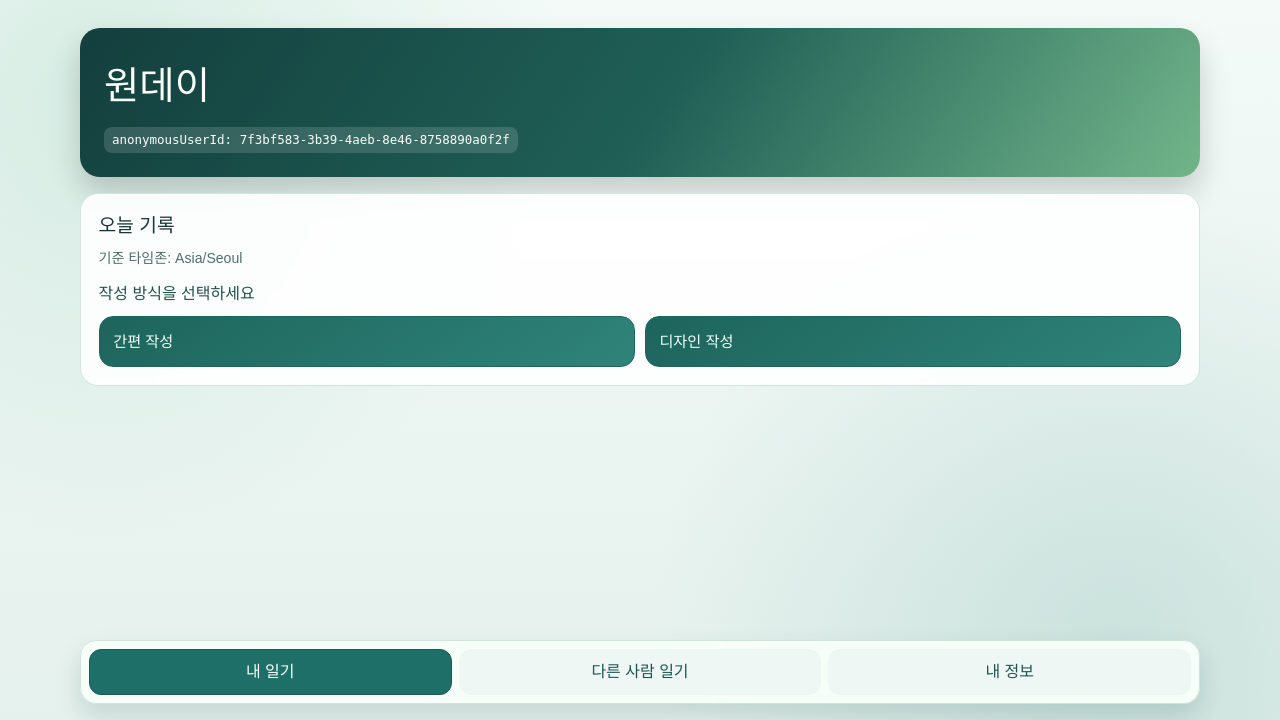
Scenario: App integration › keeps simple entry content out of the design editor
Click the button "간편 작성" at (143, 341), box x1=99 y1=316 x2=635 y2=367
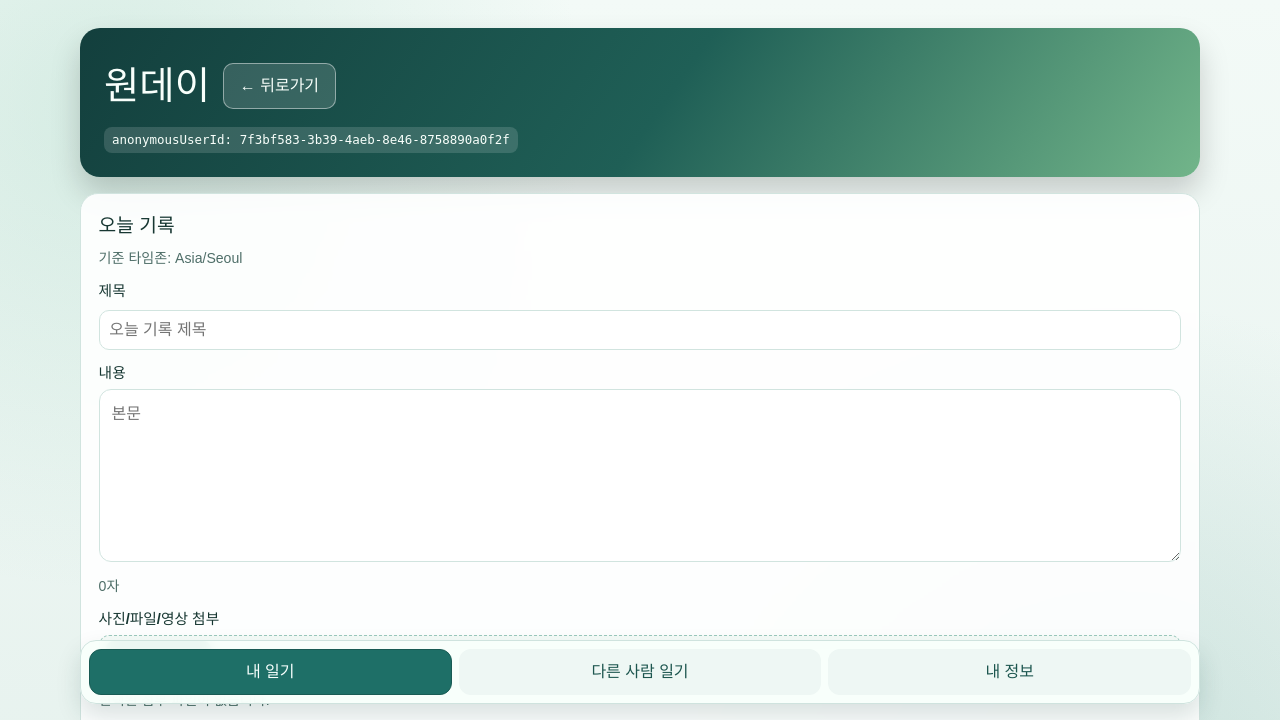
Type "간편 작성에서 입력한 본문은 디자인 편집기에 자동으로 들어가면 안 됩니다." into the text box labelled "내용" at (640, 475), box x1=99 y1=389 x2=1181 y2=562
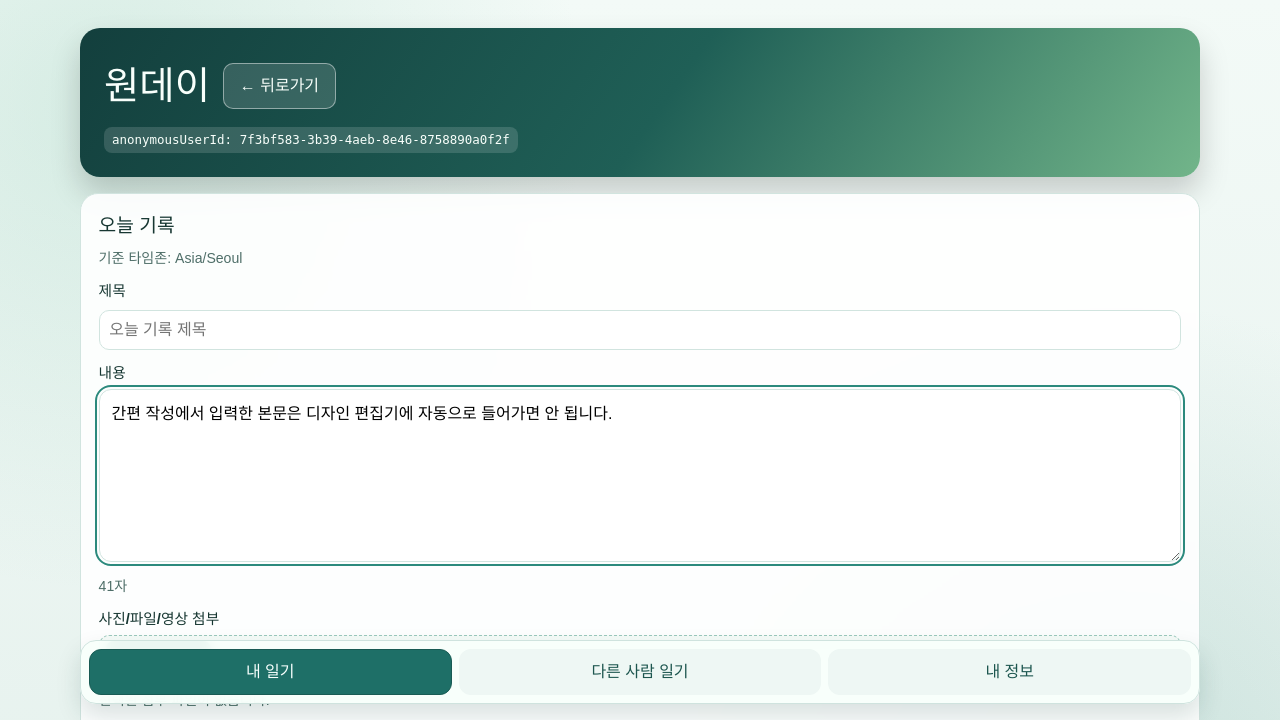
Click the button "← 뒤로가기" at (279, 86), box x1=223 y1=63 x2=336 y2=109
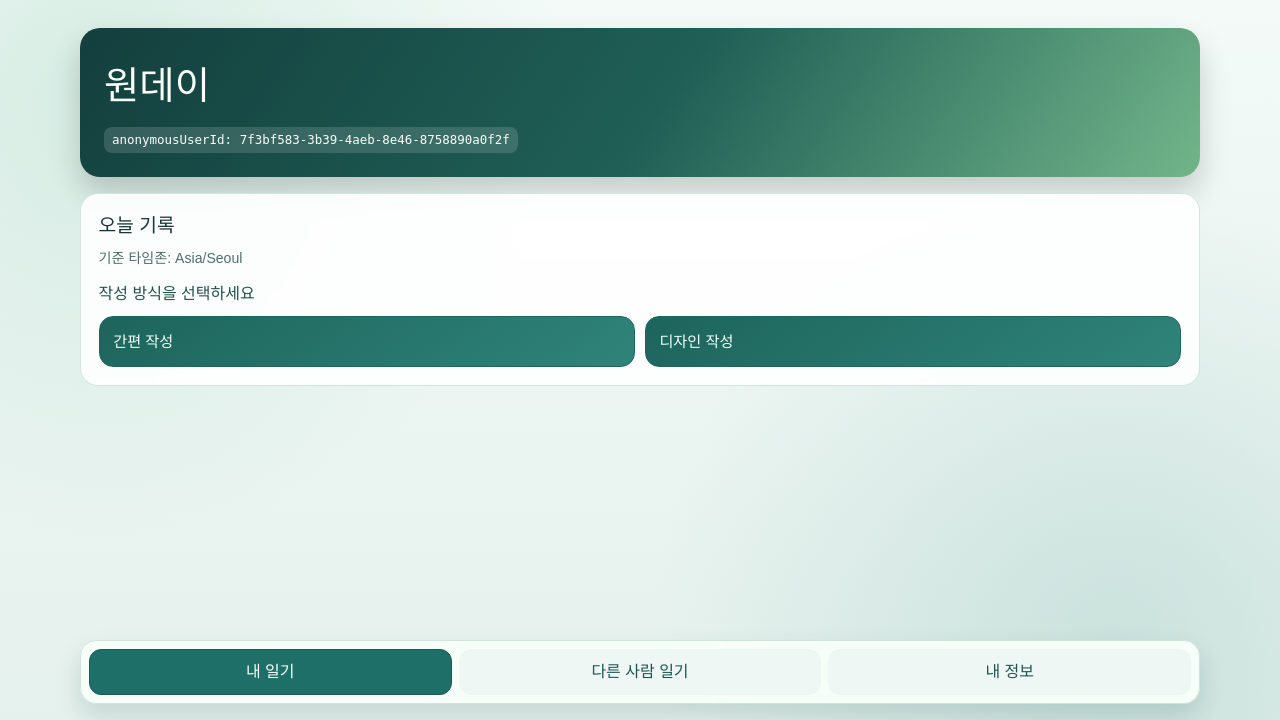
Click the button "디자인 작성" at (696, 341), box x1=645 y1=316 x2=1181 y2=367
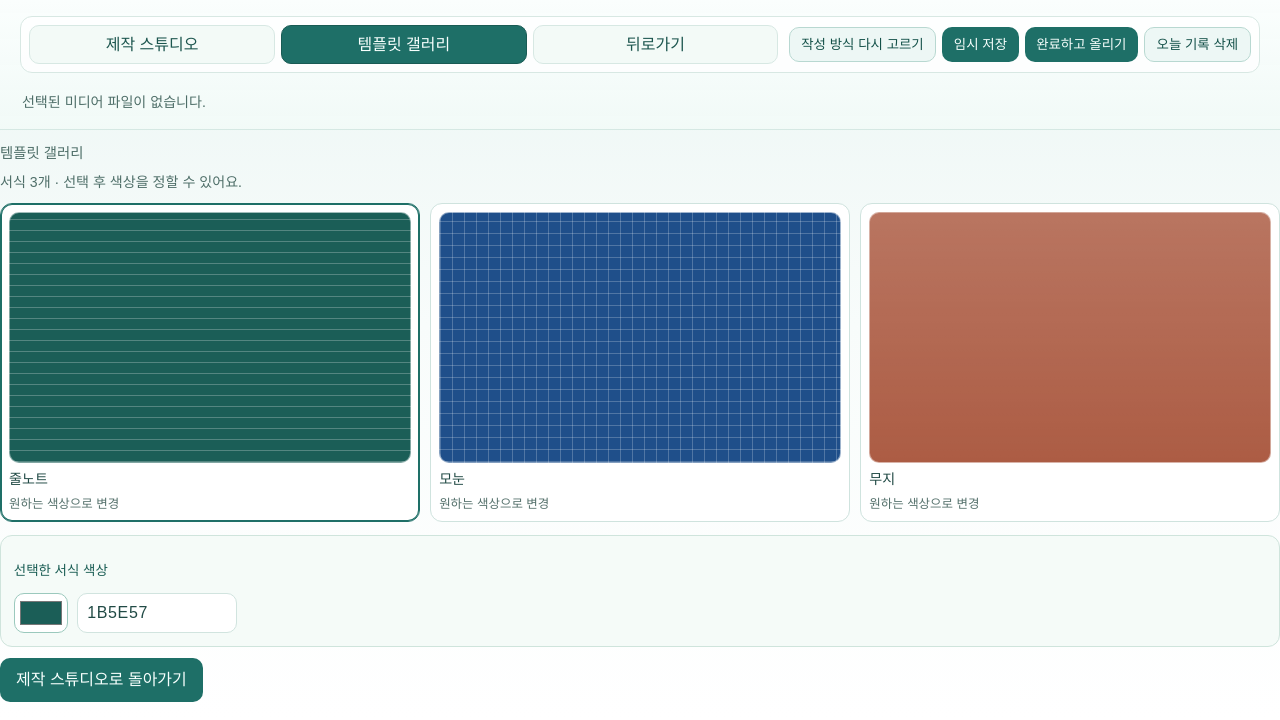
Click the tab "제작 스튜디오" at (152, 45), box x1=29 y1=25 x2=275 y2=64
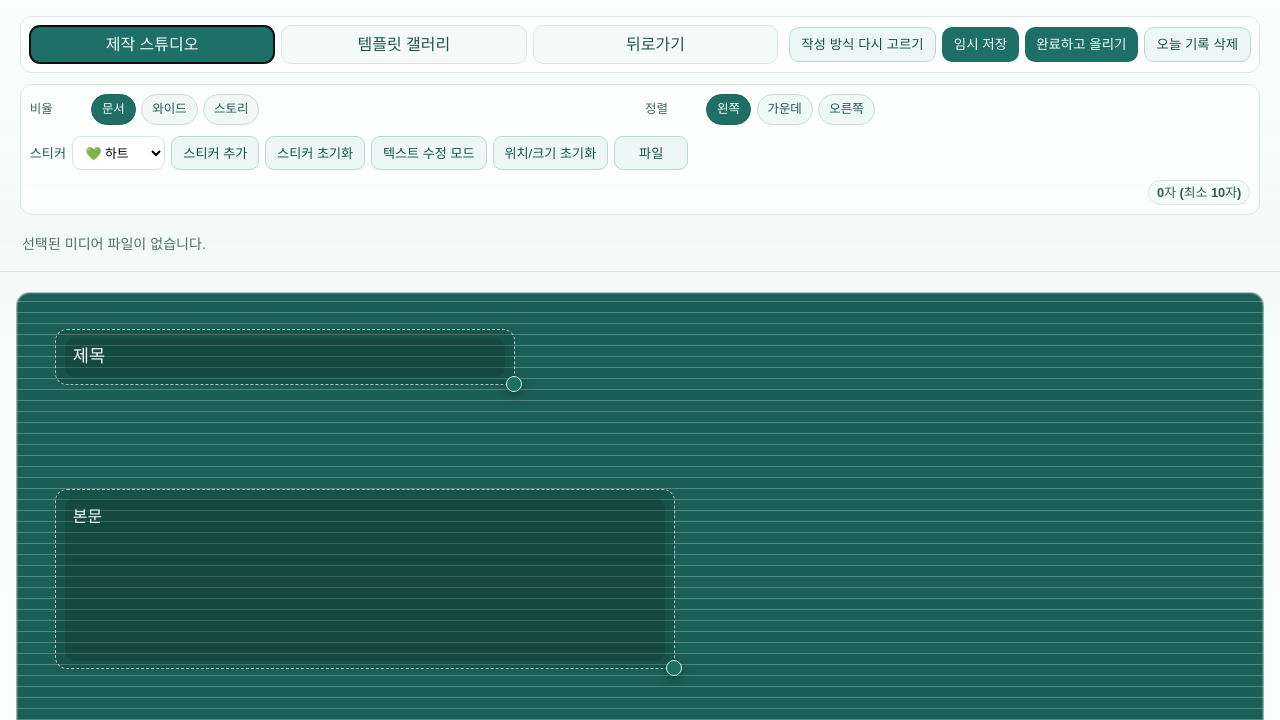
expect the text "간편 작성에서 입력한 본문은 디자인 편집기에 자동으로 들어가면 안 됩니다." is not shown: met
expect the text "본문" is shown: met, box x1=73 y1=508 x2=102 y2=525
